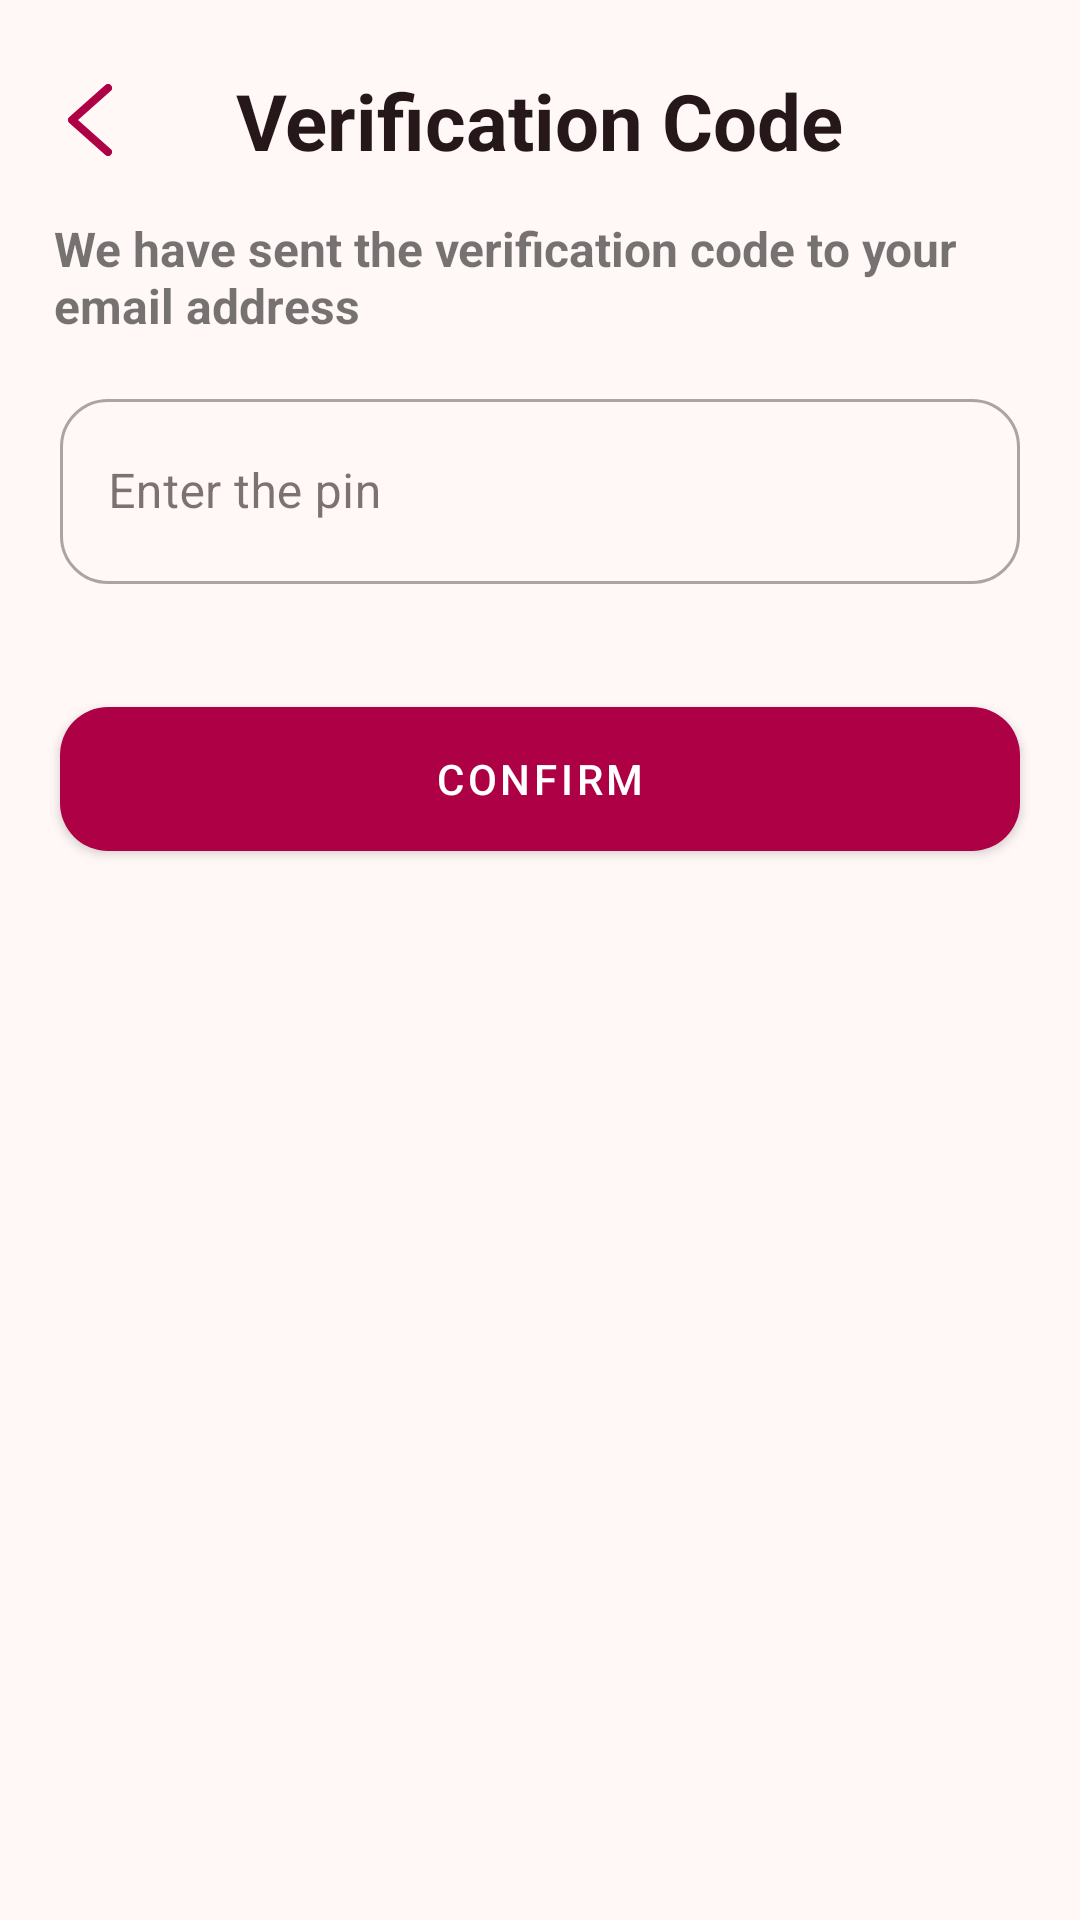

Locate icon controls on the screen. Image size 1080px x 1920px, boxes as (x1, y1, x2, y2).
back: (68, 84, 112, 156)
